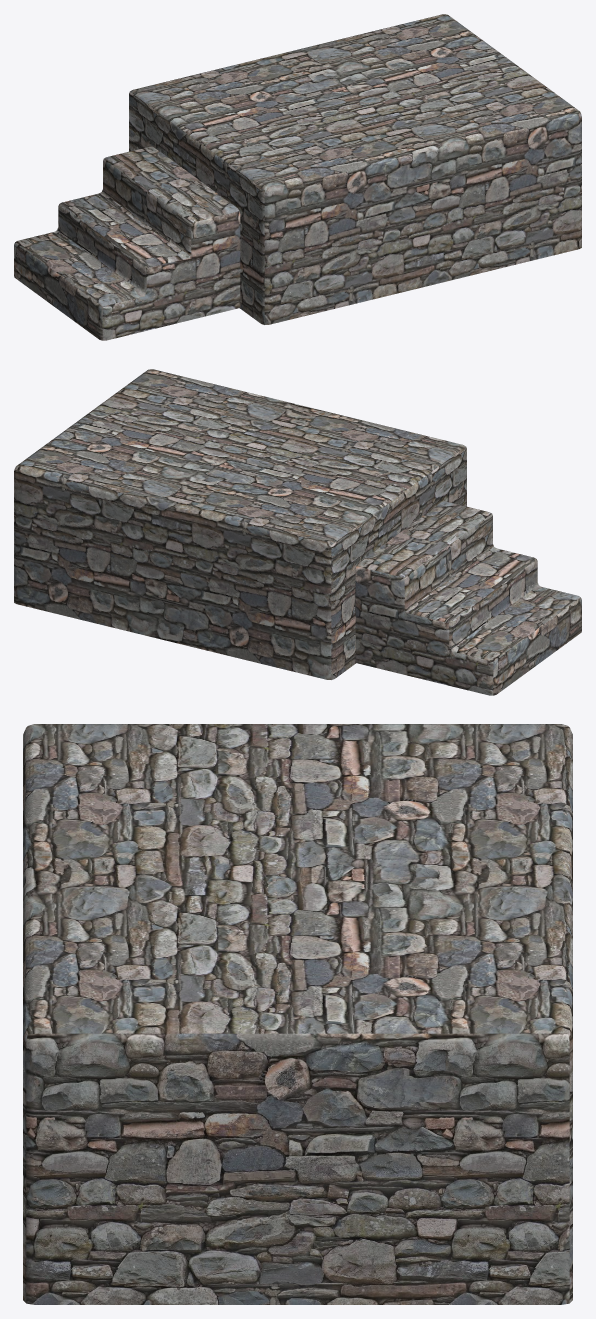
File: Stone Altar.fbx
3 views of the same model, one above another, from view 1: azimuth 30°, elevation 25°; view 2: azimuth 150°, elevation 25°; view 3: azimuth 270°, elevation 25° (orthographic). The views are drawn at different scales.
Visible parts, largest first — view 1: Altar; view 2: Altar; view 3: Altar.
Boxes of the visible parts, box(x1,y1,x2,y2) form: Altar: box(14, 14, 581, 340); Altar: box(14, 369, 581, 695); Altar: box(23, 724, 572, 1304).
Bounding box in the file's own units: 385 × 109 × 200.
